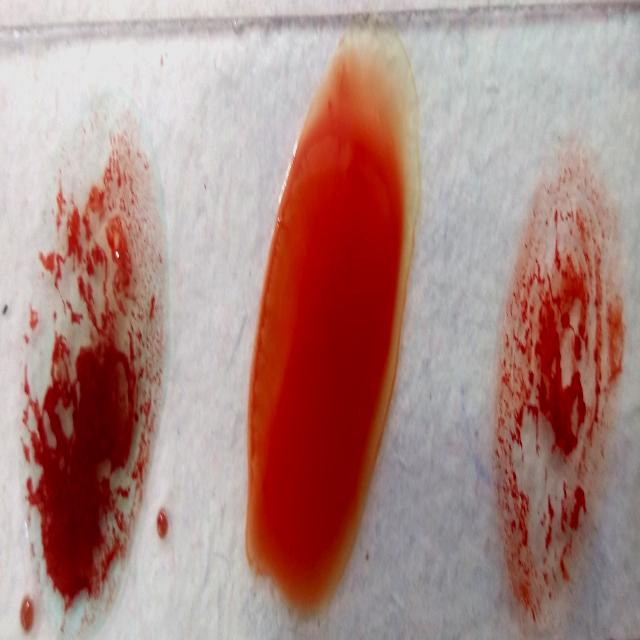A: (29, 125, 164, 605)
D: (491, 173, 611, 599)
